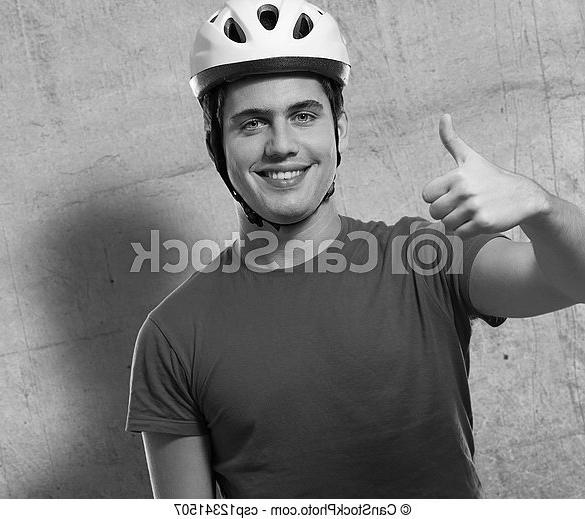Helmet: (183, 0, 352, 100)
